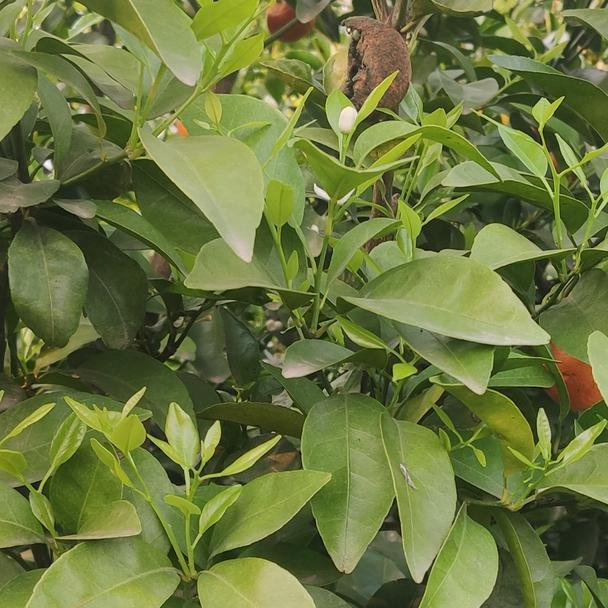shoot: (162, 404, 282, 552), (482, 103, 606, 232), (52, 384, 160, 512)
